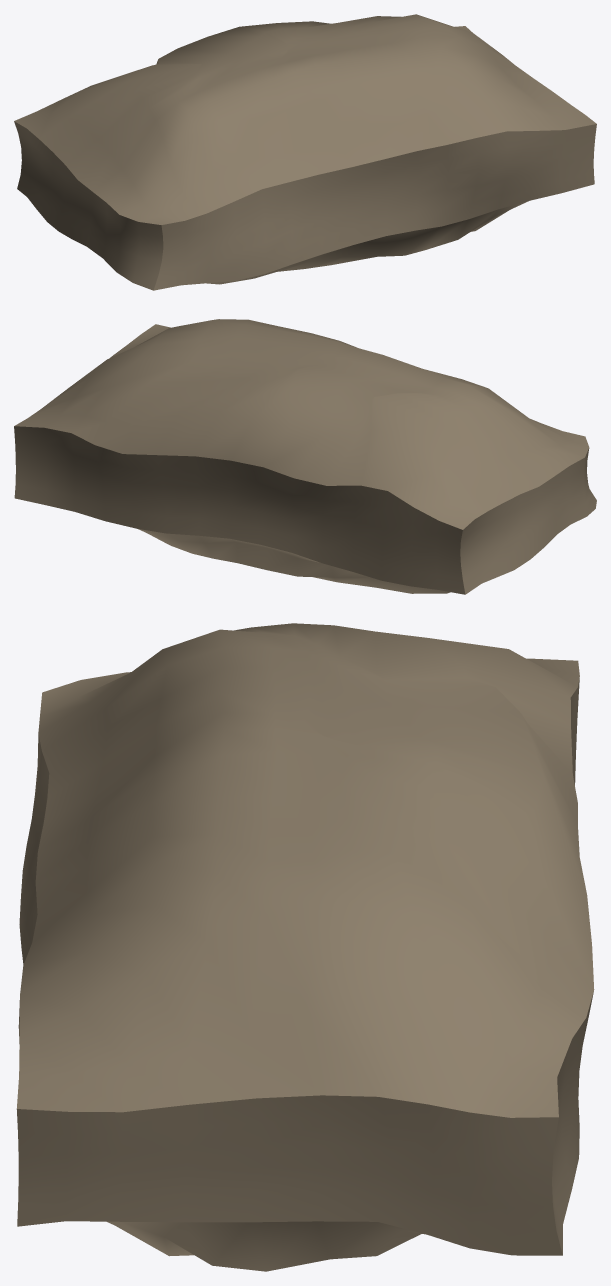
Rendered from single sandbag.fbx.
3 renders of one model, top to bottom at view 1: azimuth 30°, elevation 25°; view 2: azimuth 150°, elevation 25°; view 3: azimuth 270°, elevation 25°, orthographic. The views are drawn at different scales.
Visible parts, largest first — view 1: pCube67; view 2: pCube67; view 3: pCube67.
Part boxes in pixels (left/top/right/bottom): pCube67: left=14, top=14, right=596, bottom=290; pCube67: left=14, top=319, right=596, bottom=594; pCube67: left=16, top=623, right=594, bottom=1271.
Bounding box in the file's own units: 256 × 105 × 139.
